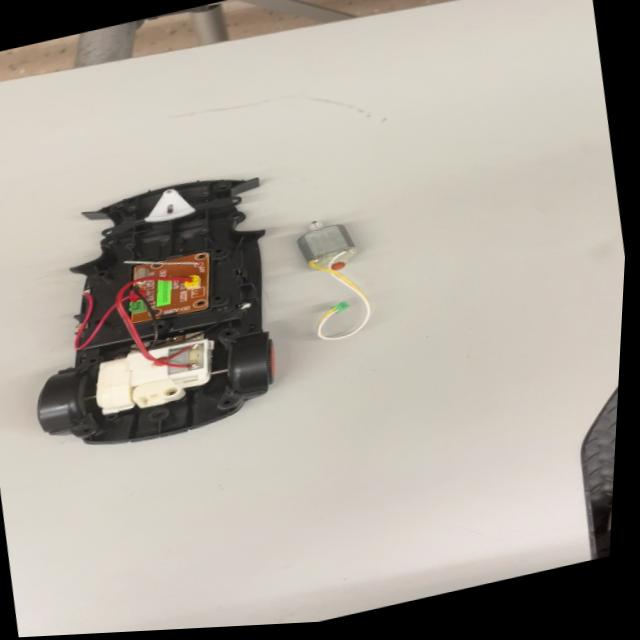Chassis: (0, 160, 307, 466)
motor: (293, 198, 385, 348)
